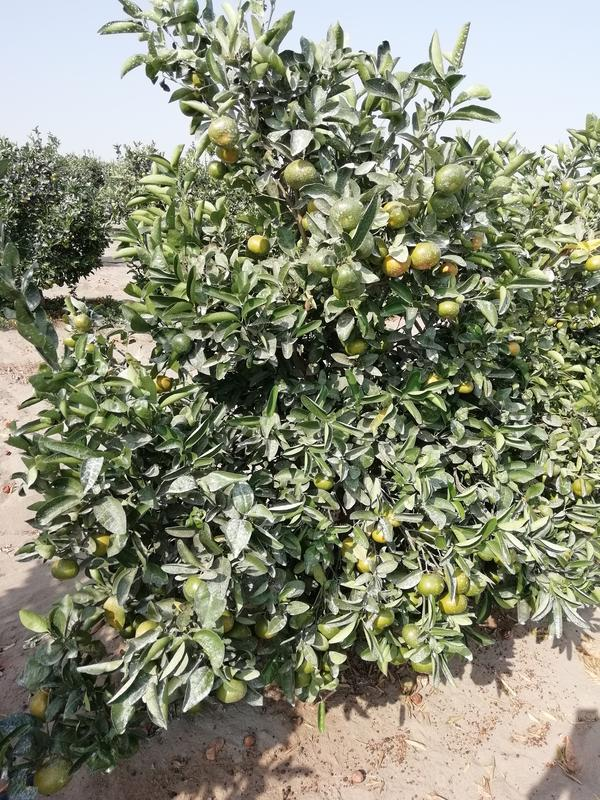mandarina verde: (33, 758, 73, 793), (434, 163, 466, 195), (207, 117, 240, 148), (283, 160, 316, 189), (332, 264, 363, 293), (412, 241, 441, 270), (337, 199, 363, 229), (384, 201, 409, 228), (50, 558, 80, 580), (381, 255, 410, 277), (217, 682, 247, 703), (438, 595, 469, 614), (417, 575, 445, 596), (29, 688, 47, 717), (171, 333, 193, 355), (402, 622, 422, 646), (247, 235, 271, 255), (435, 300, 461, 318), (72, 312, 94, 332), (206, 161, 226, 180), (174, 1, 198, 16), (61, 356, 77, 372), (585, 256, 600, 271)
